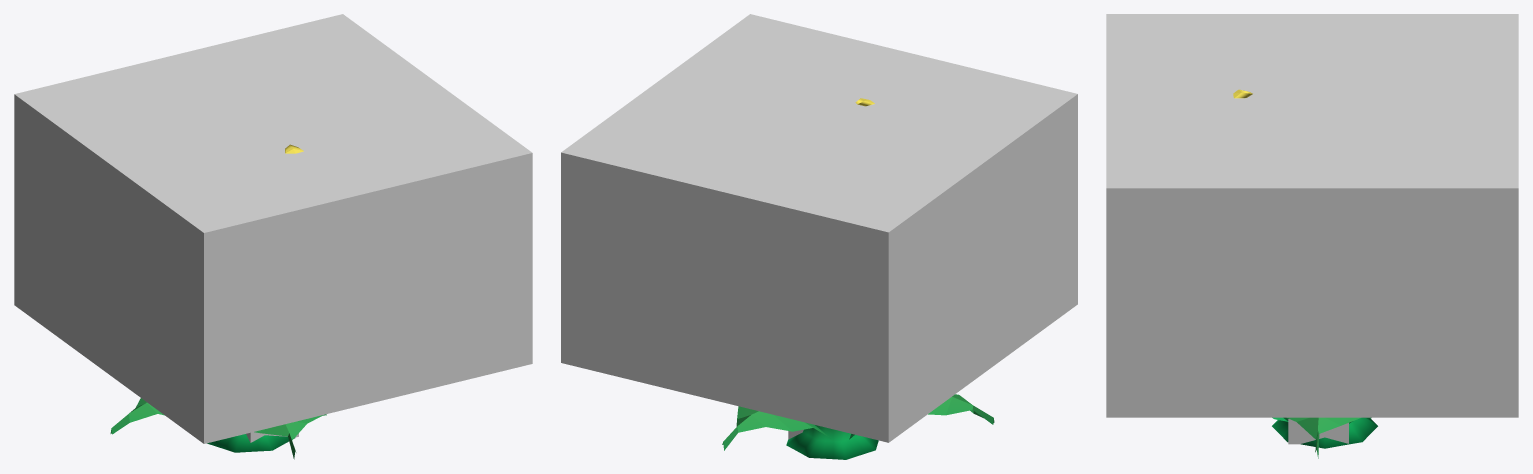
Rendered from Plant_Collector_05.fbx.
3 renders of one model, left to right at view 1: azimuth 30°, elevation 25°; view 2: azimuth 150°, elevation 25°; view 3: azimuth 270°, elevation 25°, orthographic. The views are drawn at different scales.
Parts seen in each view (by area): view 1: INTERACT_05, Plant_Collector_05; view 2: INTERACT_05, Plant_Collector_05; view 3: INTERACT_05, Plant_Collector_05, COL_05_0.
Part boxes in pixels (left/top/right/bottom): INTERACT_05: left=14, top=14, right=532, bottom=443; Plant_Collector_05: left=110, top=144, right=326, bottom=459; INTERACT_05: left=561, top=14, right=1077, bottom=442; Plant_Collector_05: left=722, top=98, right=994, bottom=459; INTERACT_05: left=1106, top=14, right=1518, bottom=417; Plant_Collector_05: left=1233, top=89, right=1377, bottom=458; COL_05_0: left=1288, top=419, right=1348, bottom=444.
Size of the model in its own units: 2.76 by 2.45 by 2.72.
